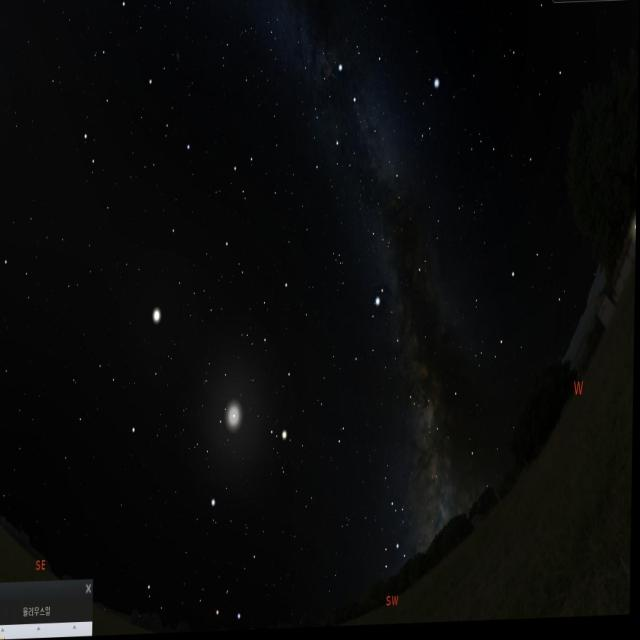aquila: (349, 287, 428, 421)
cygnus: (333, 54, 406, 190)
lyra: (407, 80, 448, 157)
moon: (217, 382, 260, 456)
